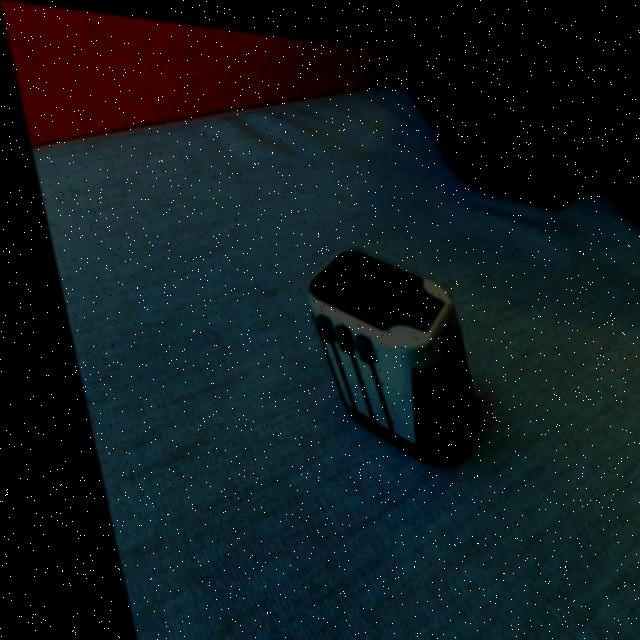adapter: (287, 232, 475, 461)
